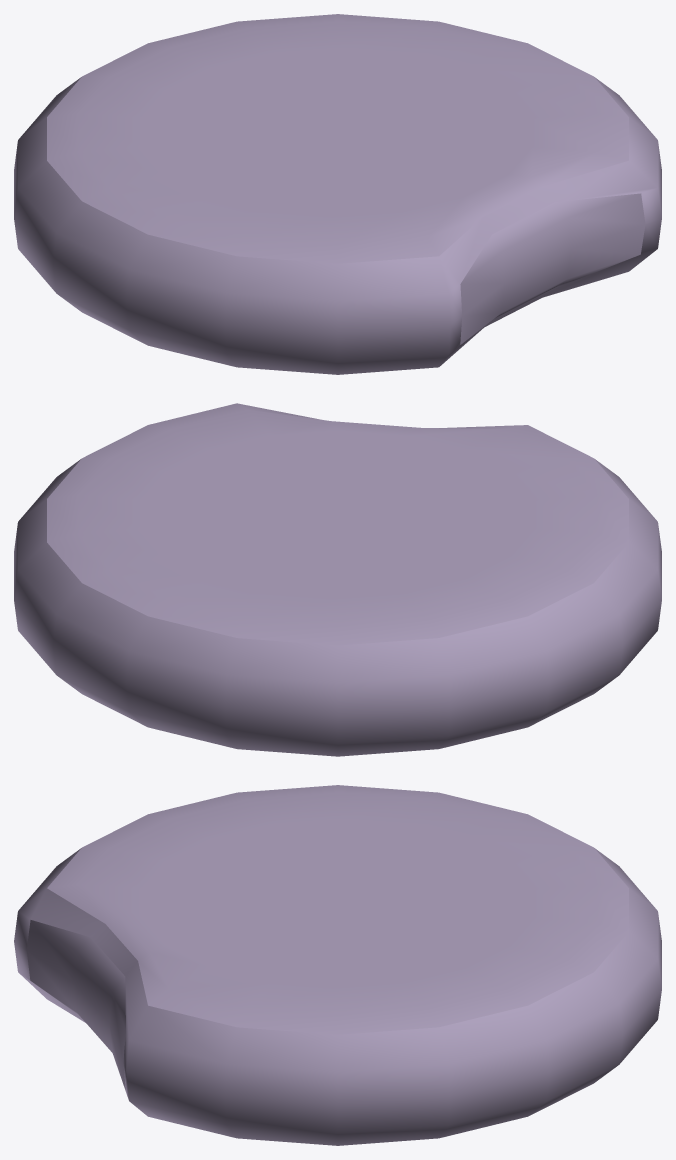
The model's file is advair2.fbx.
3 renders of one model, top to bottom at view 1: azimuth 30°, elevation 25°; view 2: azimuth 150°, elevation 25°; view 3: azimuth 270°, elevation 25°, orthographic.
Visible parts, largest first — view 1: pCylinder2; view 2: pCylinder2; view 3: pCylinder2.
Part boxes in pixels (bbox=[...]): pCylinder2: bbox=[14, 14, 661, 374]; pCylinder2: bbox=[14, 403, 661, 756]; pCylinder2: bbox=[14, 785, 661, 1145].
Bounding box in the file's own units: 33.16 × 6.88 × 32.66.
